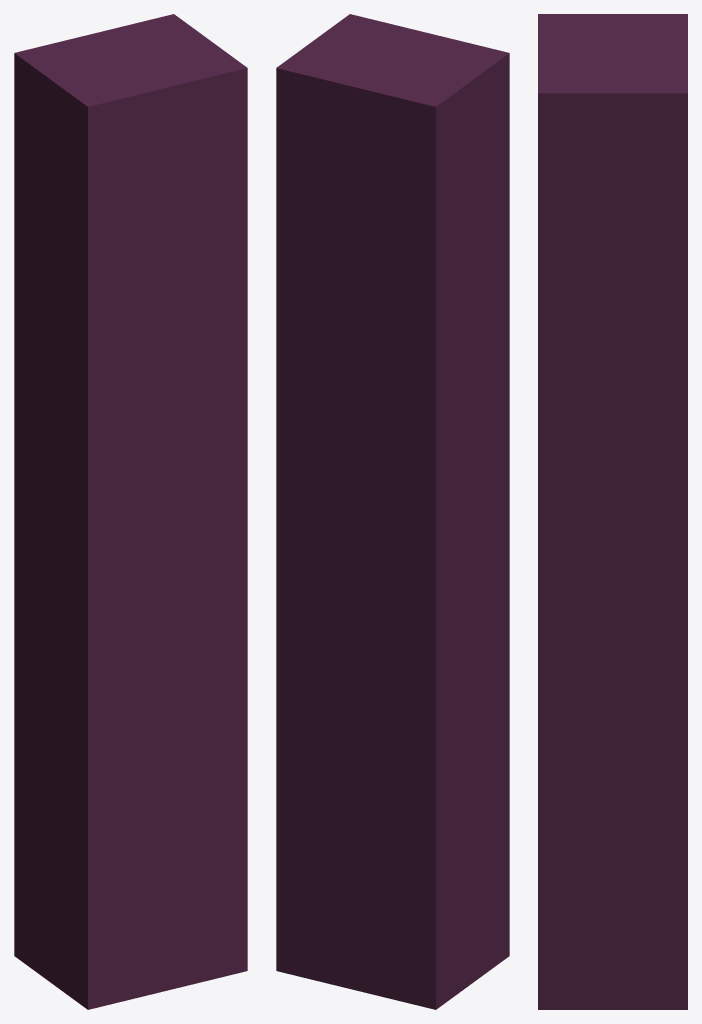
The model's file is hand.glb.
The picture shows the model from 3 angles, left to right: view 1: azimuth 30°, elevation 25°; view 2: azimuth 150°, elevation 25°; view 3: azimuth 270°, elevation 25°; orthographic projection.
Visible parts, largest first — view 1: Hand; view 2: Hand; view 3: Hand.
Part boxes in pixels (<box>): Hand: <box>14,14,247,1009</box>; Hand: <box>276,14,509,1009</box>; Hand: <box>538,14,687,1009</box>.
Bounding box in the file's own units: 0.1 × 0.54 × 0.08.
